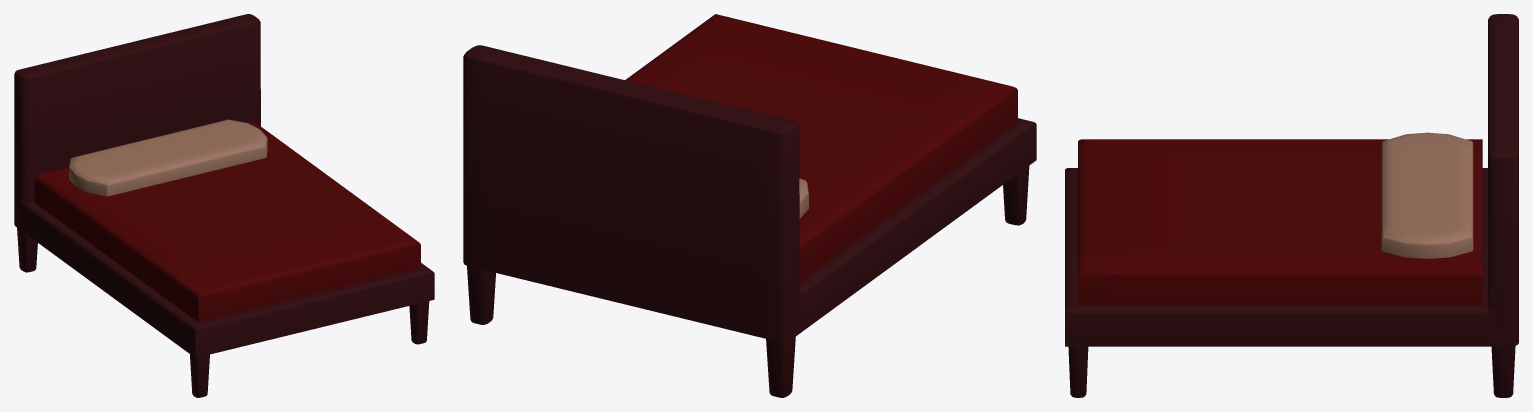
The model's file is Bed.fbx.
3 views of the same model, side by side, from view 1: azimuth 30°, elevation 25°; view 2: azimuth 150°, elevation 25°; view 3: azimuth 270°, elevation 25° (orthographic). The views are drawn at different scales.
Visible parts, largest first — view 1: Bed; view 2: Bed; view 3: Bed.
Boxes of the visible parts, x1,y1,x2,y2 form: Bed: (14, 14, 434, 397); Bed: (463, 14, 1036, 397); Bed: (1065, 14, 1518, 397).
Bounding box in the file's own units: 1.5 × 1.2 × 2.
